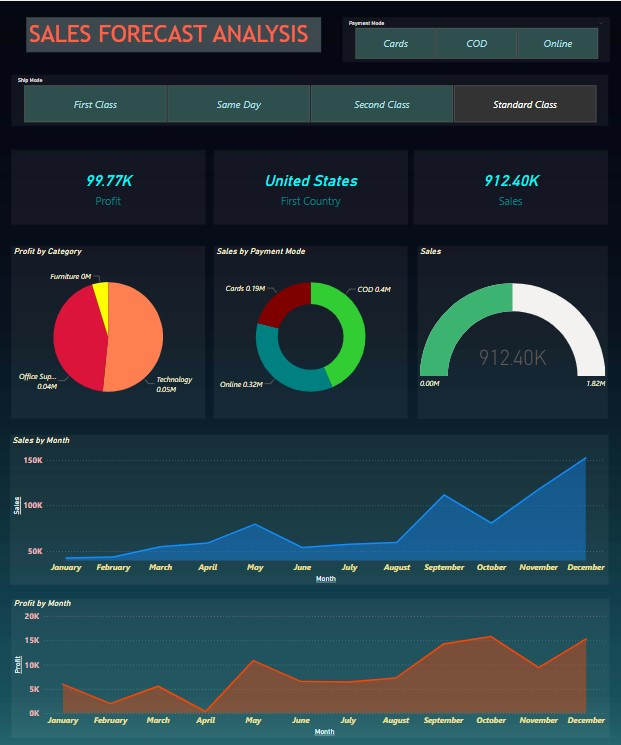

This screenshot's page, from the dashboard's own definition file:
{"tool":"powerbi","page":{"name":"Page 1","canvas":[1250,1500],"ordinal":0},"visuals":[{"type":"areaChart","fields":{"Category":["Sheet1.Order Date.Variation.Date Hierarchy.Month","Sheet1.Order Date.Variation.Date Hierarchy.Day"],"Y":["Sum(Sheet1.Profit)"]},"box":[22.9,1202,1202,280.1],"z":0},{"type":"stackedAreaChart","fields":{"Category":["Sheet1.Order Date.Variation.Date Hierarchy.Month","Sheet1.Order Date.Variation.Date Hierarchy.Day"],"Y":["Sum(Sheet1.Sales)"]},"box":[20.1,871.9,1203.5,301.5],"z":1000},{"type":"pieChart","fields":{"Category":["Sheet1.Category"],"Y":["Sum(Sheet1.Profit)"]},"box":[22.6,492.5,389.4,346.7],"z":2000},{"type":"donutChart","fields":{"Category":["Sheet1.Payment Mode"],"Y":["Sum(Sheet1.Sales)"]},"box":[429.6,492.5,389.4,346.7],"z":3000},{"type":"gauge","fields":{"Y":["Sum(Sheet1.Sales)"]},"box":[840,492.5,382.5,347.5],"z":4000},{"type":"card","fields":{"Values":["Sum(Sheet1.Profit)"]},"box":[22.5,300,390,150],"z":5000},{"type":"card","fields":{"Values":["Min(Sheet1.Country)"]},"box":[430,300,390,150],"z":6000},{"type":"card","fields":{"Values":["Sum(Sheet1.Sales)"]},"box":[832.5,300,390,150],"z":7000},{"type":"slicer","fields":{"Values":["Sheet1.Ship Mode"]},"box":[22.5,147.5,1200,102.5],"z":8000},{"type":"slicer","fields":{"Values":["Sheet1.Payment Mode"]},"box":[687.5,32.5,537.5,90],"z":9000},{"type":"textbox","box":[52.5,32.5,592.5,70],"z":10000}]}

Visuals, with their boxes in screenshot pixels (x1, y1, x2, y2), scaled from the page's 1250x1500 canvas onto the 621x745 screenshot:
areaChart - Sheet1.Order Date.Variation.Date Hierarchy.Month x Sheet1.Order Date.Variation.Date Hierarchy.Day: 11 597 609 736
stackedAreaChart - Sheet1.Order Date.Variation.Date Hierarchy.Month x Sheet1.Order Date.Variation.Date Hierarchy.Day: 10 433 608 583
pieChart - Sheet1.Category x Sum(Sheet1.Profit): 11 245 205 417
donutChart - Sheet1.Payment Mode x Sum(Sheet1.Sales): 213 245 407 417
gauge - Sum(Sheet1.Sales): 417 245 607 417
card - Sum(Sheet1.Profit): 11 149 205 224
card - Min(Sheet1.Country): 214 149 407 224
card - Sum(Sheet1.Sales): 414 149 607 224
slicer - Sheet1.Ship Mode: 11 73 607 124
slicer - Sheet1.Payment Mode: 342 16 609 61
textbox: 26 16 320 51
